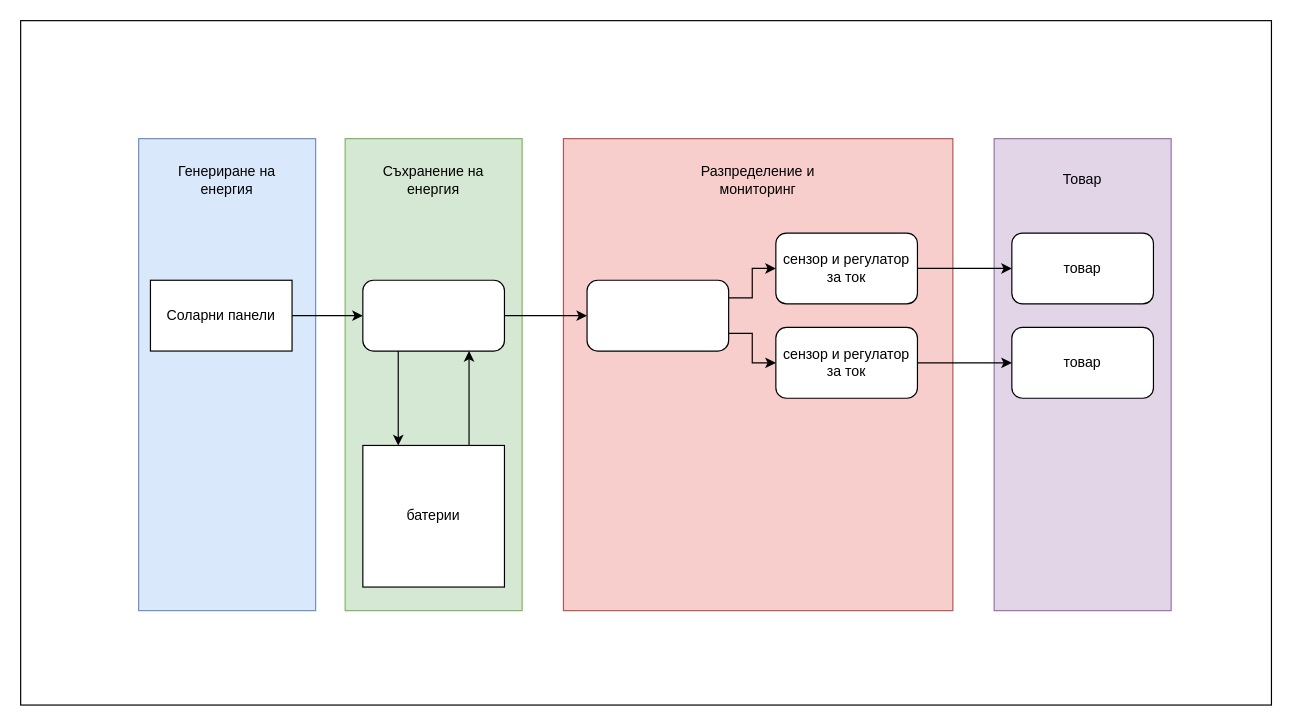
Some shapes in this 1292 by 726 pixel diagram are drawn without their labels. Here are the shapes that lost their labels. From the top down, the box of each, then its label:
(362, 279, 504, 351): Конвертиране на напрежението
(586, 279, 729, 351): разпределител на напрежението
